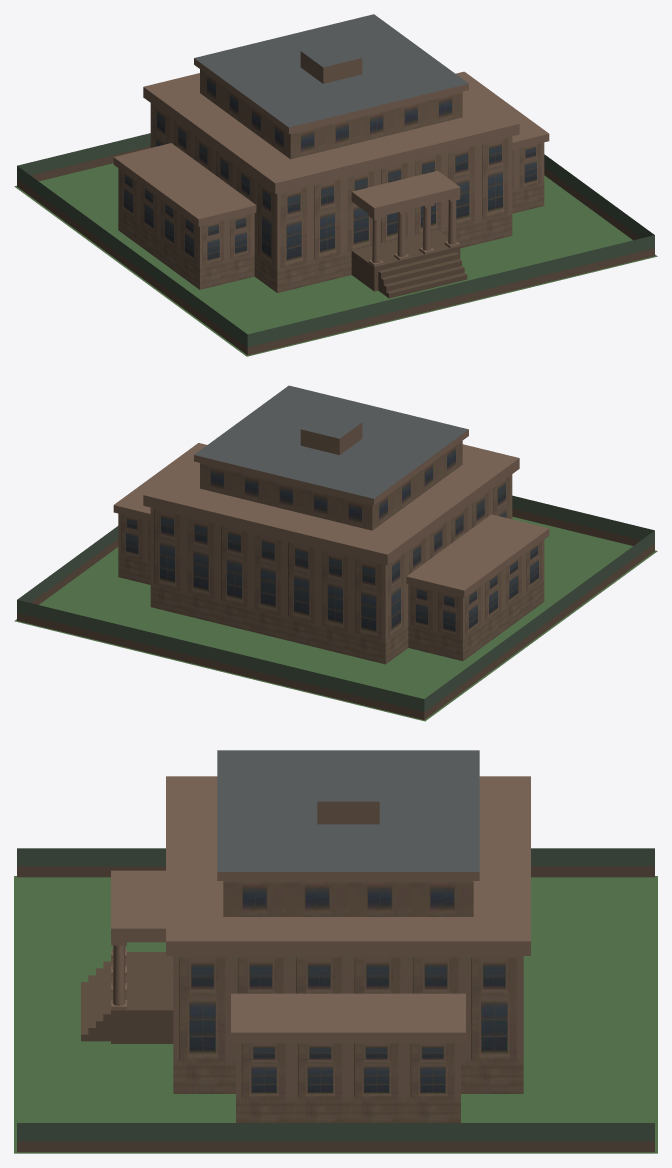
The model's file is pacific_union_club.glb.
The picture shows the model from 3 angles, top to bottom: view 1: azimuth 30°, elevation 25°; view 2: azimuth 150°, elevation 25°; view 3: azimuth 270°, elevation 25°; orthographic projection. The views are drawn at different scales.
Parts seen in each view (by area): view 1: pacific_union_club; view 2: pacific_union_club; view 3: pacific_union_club.
Part boxes in pixels (<box>): pacific_union_club: <box>14,14,657,356</box>; pacific_union_club: <box>14,385,657,721</box>; pacific_union_club: <box>14,750,657,1153</box>.
Size of the model in its own units: 52.5 by 20 by 51.5.
2 materials, 2 textured.
